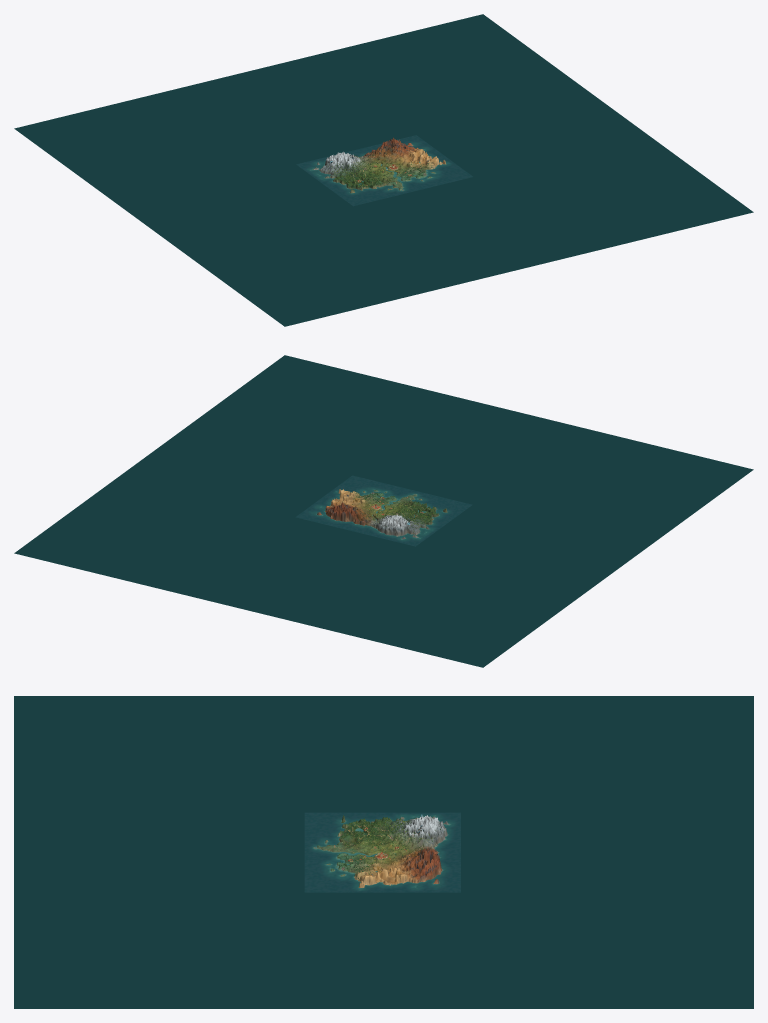
Rendered from continent.glb.
3 renders of one model, top to bottom at view 1: azimuth 30°, elevation 25°; view 2: azimuth 150°, elevation 25°; view 3: azimuth 270°, elevation 25°, orthographic. The views are drawn at different scales.
Bounding box in the file's own units: 510 × 20.76 × 510.
